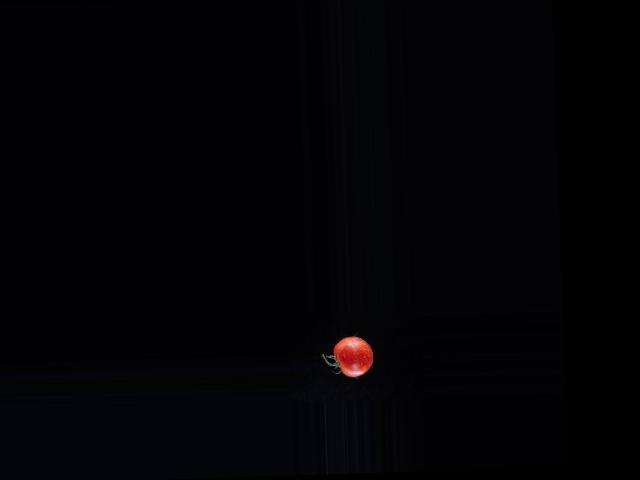tomato: (332, 335, 373, 377)
